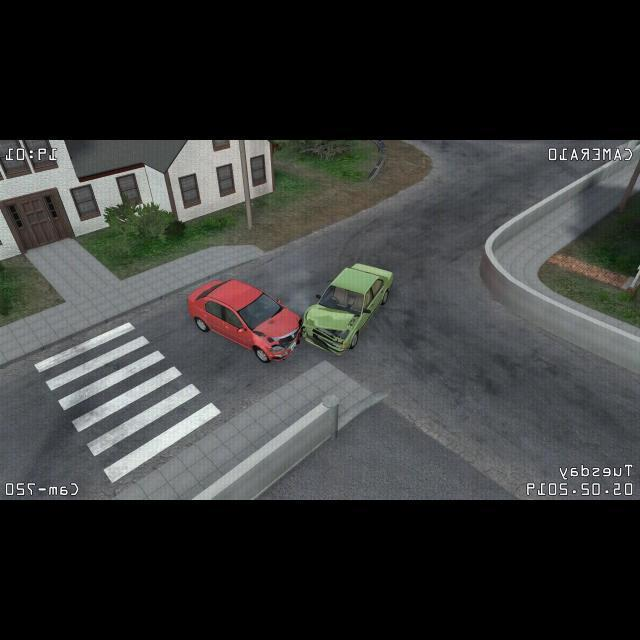multiple_accident: (202, 202, 417, 408)
